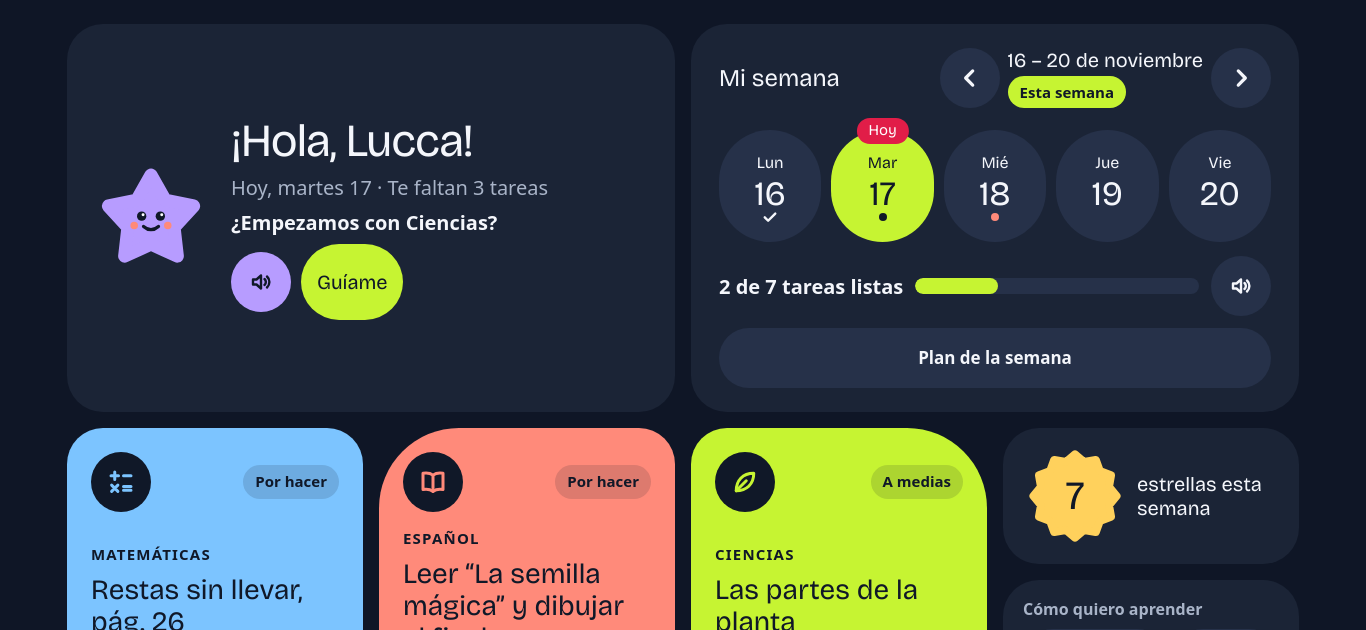
WeekScreen › the mascot suggests the task already started, then the first pending one
The image size is (1366, 630).
Expected: the text "¿Empezamos con Ciencias?" is shown, [231,209,497,236]
Click the button with aria-label "Miércoles 18" at (995, 186), box [944,130,1046,242]
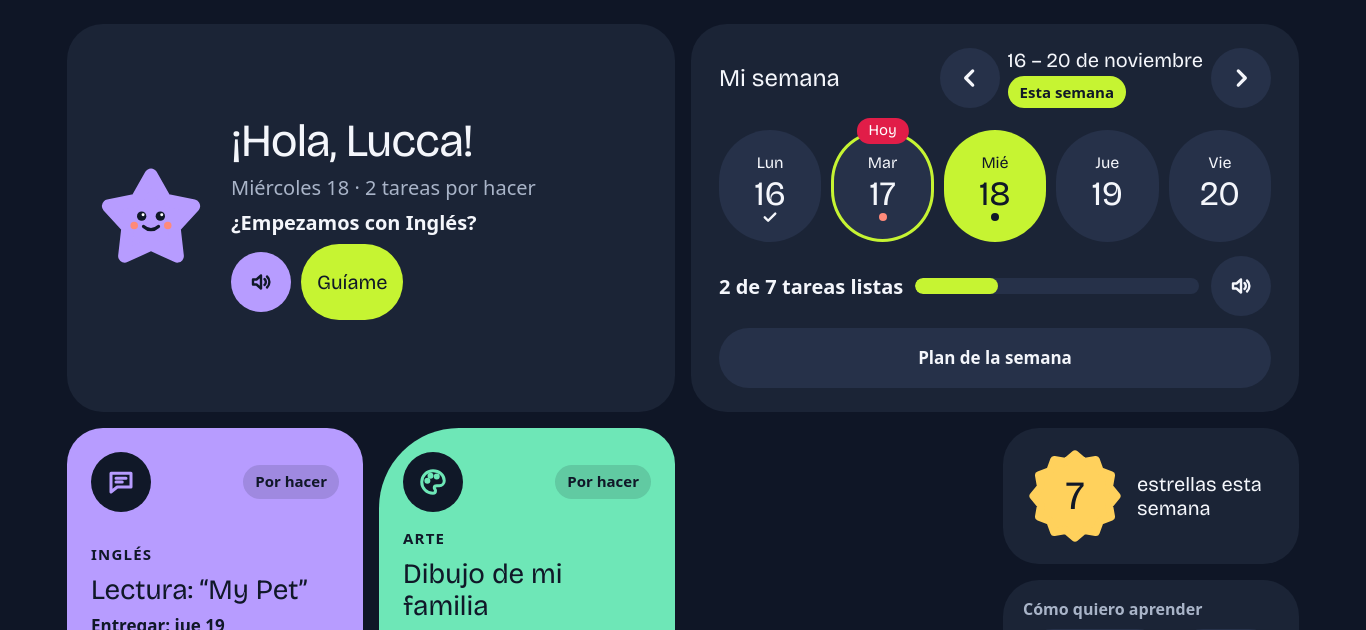
Expected: the text "¿Empezamos con Inglés?" is shown, [231,209,477,236]
Click the button with aria-label "Lunes 16" at (770, 186), box [719,130,821,242]
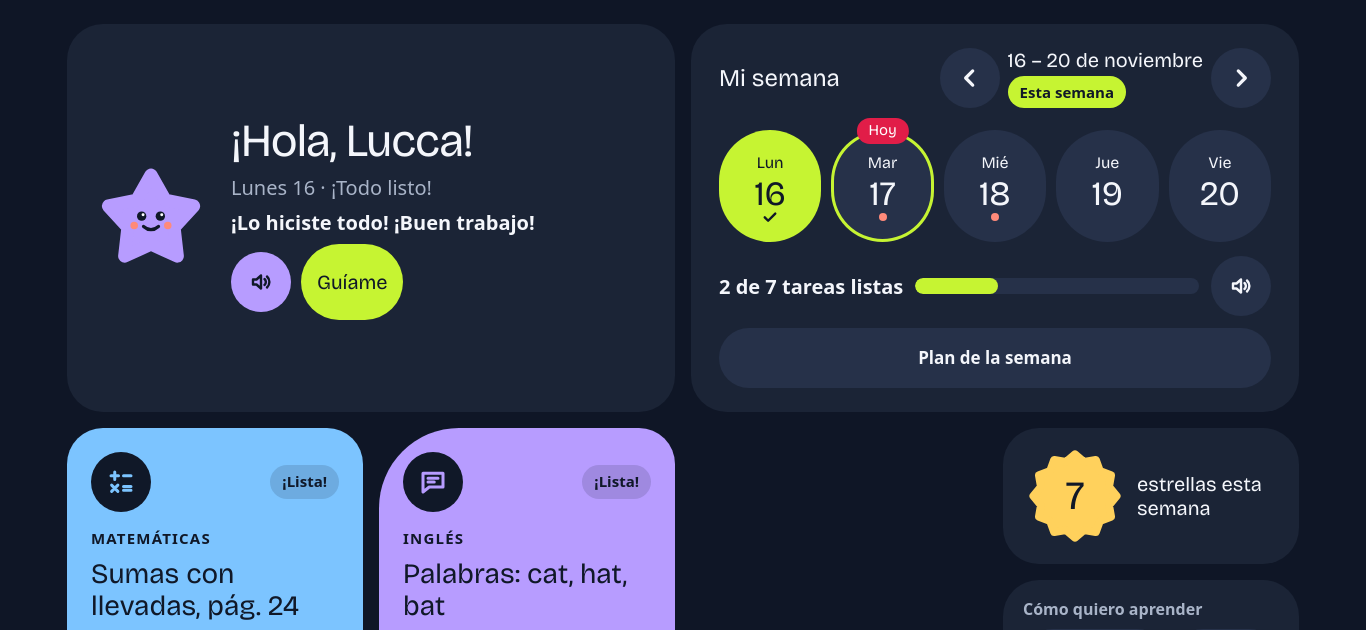
Expected: the text "¡Lo hiciste todo! ¡Buen trabajo!" is shown, [231,209,535,236]
